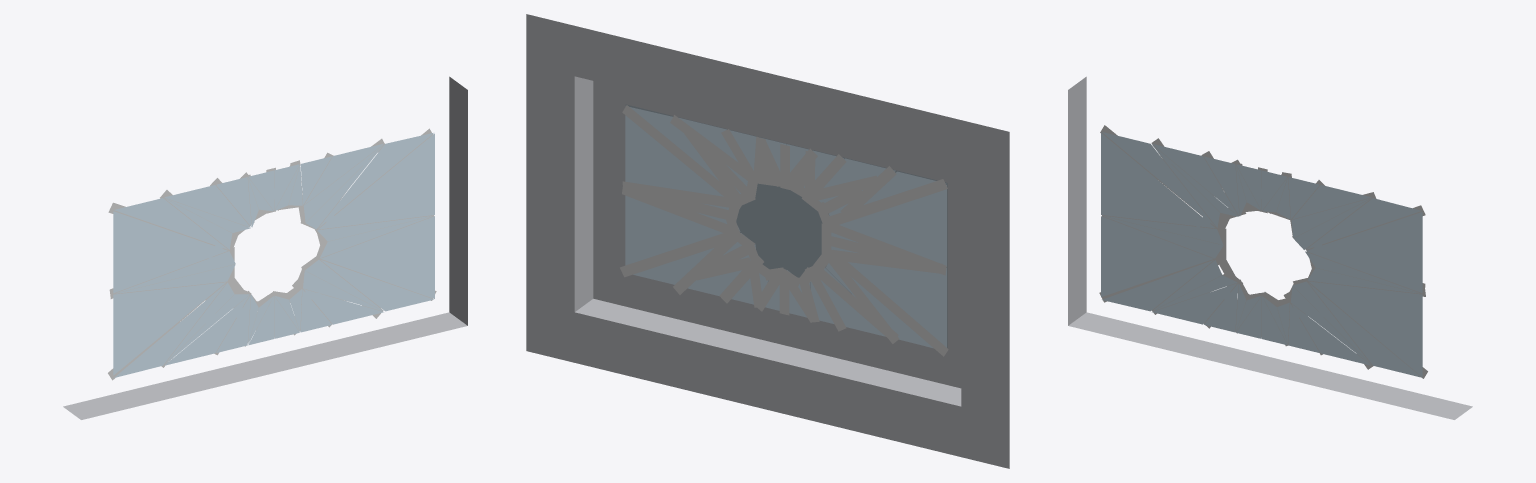
File: WindowRepaired.gltf
3 views of the same model, side by side, from view 1: azimuth 30°, elevation 25°; view 2: azimuth 150°, elevation 25°; view 3: azimuth 330°, elevation 25° (orthographic).
Parts seen in each view (by area): view 1: house_type02.001, house_type02.002, 平面; view 2: house_type02.002, 平面, house_type02.001; view 3: house_type02.001, house_type02.002, 平面.
Part boxes in pixels (<box>): house_type02.001: <box>113,133,434,377</box>; house_type02.002: <box>63,76,467,419</box>; 平面: <box>108,128,436,380</box>; house_type02.002: <box>526,14,1009,468</box>; 平面: <box>620,105,948,356</box>; house_type02.001: <box>625,107,946,348</box>; house_type02.001: <box>1101,132,1422,377</box>; house_type02.002: <box>1068,76,1472,419</box>; 平面: <box>1099,125,1427,378</box>.
Size of the model in its own units: 0.3 by 0.2 by 0.02.
